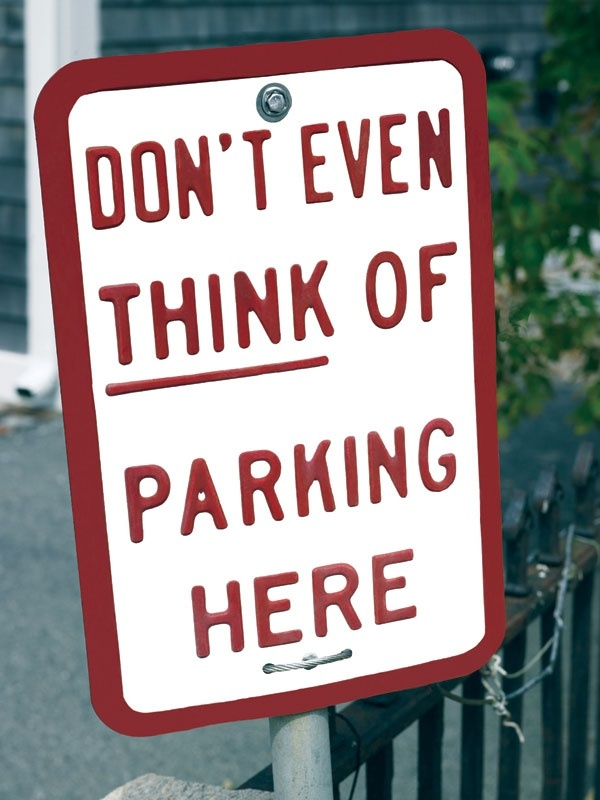text: (129, 413, 144, 548), (145, 413, 160, 548), (161, 413, 176, 548), (177, 413, 192, 548), (193, 413, 208, 548), (209, 413, 224, 548), (225, 413, 240, 548), (241, 413, 256, 548), (257, 413, 272, 548), (273, 413, 288, 548), (289, 413, 304, 548), (305, 413, 320, 548), (321, 413, 336, 548), (337, 413, 352, 548), (353, 413, 368, 548), (369, 413, 384, 548), (385, 413, 400, 548), (401, 413, 416, 548), (417, 413, 432, 548), (433, 413, 448, 548), (321, 255, 337, 369), (97, 121, 112, 236), (113, 121, 128, 236), (129, 121, 144, 236), (145, 121, 160, 236), (161, 121, 176, 236), (177, 121, 192, 236), (193, 121, 208, 236), (209, 121, 224, 236), (225, 121, 240, 236), (241, 121, 256, 236), (257, 121, 272, 236), (97, 255, 112, 369), (113, 255, 128, 369), (129, 255, 144, 369), (145, 255, 160, 369), (161, 255, 176, 369), (177, 255, 192, 369), (193, 255, 208, 369), (209, 255, 224, 369), (225, 255, 240, 369), (241, 255, 256, 369), (257, 255, 272, 369), (273, 255, 288, 369), (289, 255, 304, 369), (305, 255, 320, 369), (193, 549, 208, 662), (209, 549, 224, 662), (225, 549, 240, 662), (241, 549, 256, 662), (257, 549, 272, 662), (273, 549, 288, 662), (289, 549, 304, 662), (305, 549, 320, 662), (321, 549, 336, 662), (337, 549, 352, 662), (353, 549, 368, 662), (369, 549, 384, 662), (385, 549, 400, 662), (401, 549, 416, 662), (305, 106, 320, 207), (321, 106, 336, 207), (337, 106, 352, 207), (353, 106, 368, 207), (369, 106, 384, 207), (385, 106, 400, 207), (401, 106, 416, 207), (417, 106, 432, 207), (433, 106, 448, 207), (273, 121, 286, 236), (449, 413, 460, 548), (84, 121, 96, 236), (369, 240, 384, 332), (385, 240, 400, 332), (401, 240, 416, 332), (417, 240, 432, 332), (433, 240, 448, 332), (449, 240, 459, 332), (123, 413, 128, 548), (449, 106, 455, 207), (300, 106, 304, 207), (365, 240, 368, 332), (190, 549, 192, 662), (417, 549, 419, 662), (95, 255, 96, 369)
